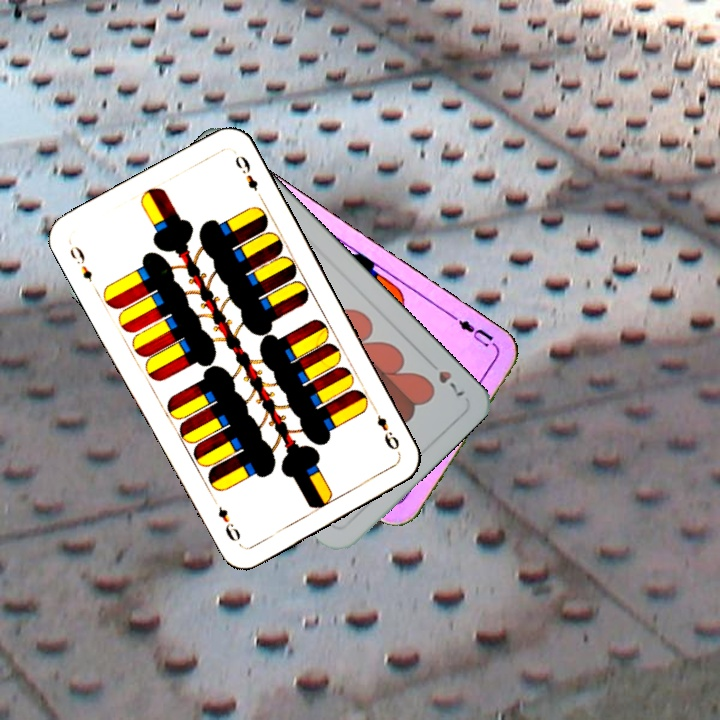E9: (369, 403, 402, 453), (65, 239, 95, 285)
EU: (449, 312, 501, 352)
H7: (422, 356, 468, 400)
